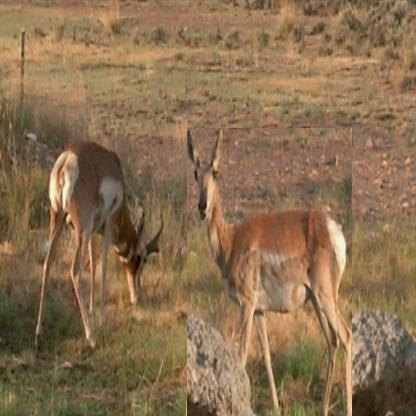Deer: (187, 128, 352, 416), (35, 140, 164, 348)
